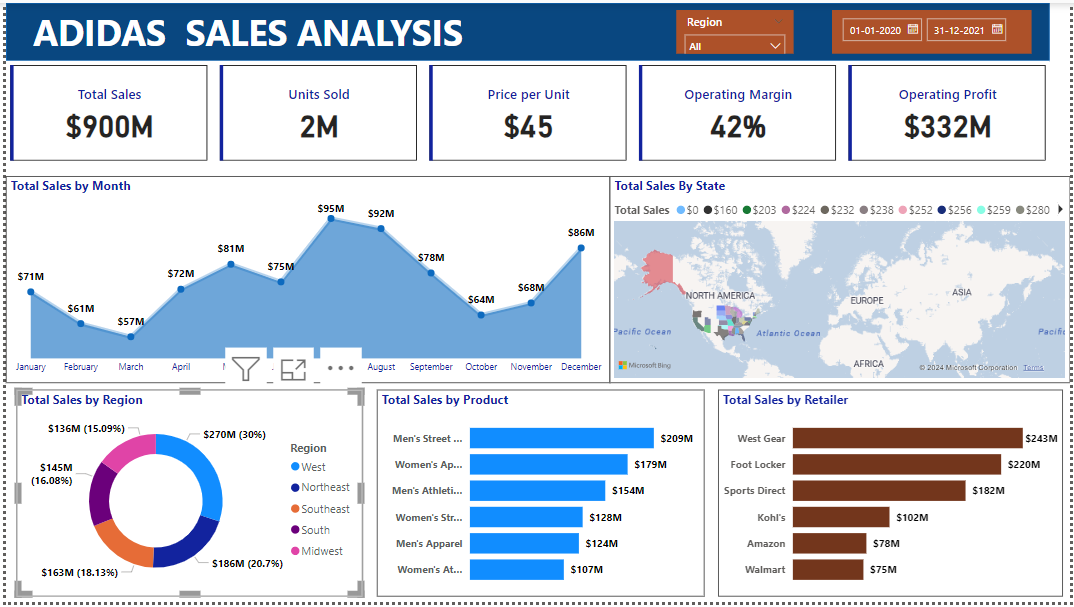

The dashboard page shown, as its layout file describes it:
{"tool":"powerbi","page":{"name":"Page 1","canvas":[1280,720],"ordinal":0},"visuals":[{"type":"shape","box":[0,0,1255,70],"z":0},{"type":"textbox","box":[27.5,0,540,70],"z":1000},{"type":"cardVisual","fields":{"Data":["Sum(Data Sales Adidas.Total Sales)","Sum(Data Sales Adidas.Units Sold)","Avg(Data Sales Adidas.Price per Unit)","Avg(Data Sales Adidas.Operating Margin)","Sum(Data Sales Adidas.Operating Profit)"]},"box":[0,70,1255,125],"z":2000},{"type":"areaChart","title":"Total Sales by Month","fields":{"Category":["Data Sales Adidas.Invoice Date.Variation.Date Hierarchy.Month"],"Y":["Sum(Data Sales Adidas.Total Sales)"]},"box":[0,208.3,726,248.3],"z":3000},{"type":"filledMap","title":"Total Sales By State","fields":{"Category":["Data Sales Adidas.State"],"Series":["Data Sales Adidas.Total Sales"]},"box":[726,208.3,553.5,248.3],"z":4000},{"type":"donutChart","title":"Total Sales by Region","fields":{"Category":["Data Sales Adidas.Region"],"Y":["Sum(Data Sales Adidas.Total Sales)"]},"box":[12.6,465.1,416.7,248.3],"z":5000},{"type":"barChart","title":"Total Sales by Product","fields":{"Category":["Data Sales Adidas.Product"],"Y":["Sum(Data Sales Adidas.Total Sales)"]},"box":[446.1,465.1,393.5,248.3],"z":6000},{"type":"barChart","title":"Total Sales by Retailer","fields":{"Y":["Sum(Data Sales Adidas.Total Sales)"],"Category":["Data Sales Adidas.Retailer"]},"box":[856.5,465.1,414.6,248.3],"z":7000},{"type":"slicer","fields":{"Values":["Data Sales Adidas.Region"]},"box":[806,8.4,141,52.6],"z":8000},{"type":"slicer","fields":{"Values":["Data Sales Adidas.Invoice Date"]},"box":[993.3,8.4,239.9,52.6],"z":9000}]}

Visuals, with their boxes in screenshot pixels (x1, y1, x2, y2), scaled from the page's 1280x720 canvas onto the 1074x607 screenshot:
shape: detection(0, 0, 1053, 59)
textbox: detection(23, 0, 476, 59)
cardVisual - Sum(Data Sales Adidas.Total Sales) x Sum(Data Sales Adidas.Units Sold): detection(0, 59, 1053, 164)
"Total Sales by Month" areaChart: detection(0, 176, 609, 385)
"Total Sales By State" filledMap: detection(609, 176, 1073, 385)
"Total Sales by Region" donutChart: detection(11, 392, 360, 601)
"Total Sales by Product" barChart: detection(374, 392, 704, 601)
"Total Sales by Retailer" barChart: detection(719, 392, 1067, 601)
slicer - Data Sales Adidas.Region: detection(676, 7, 795, 51)
slicer - Data Sales Adidas.Invoice Date: detection(833, 7, 1035, 51)
